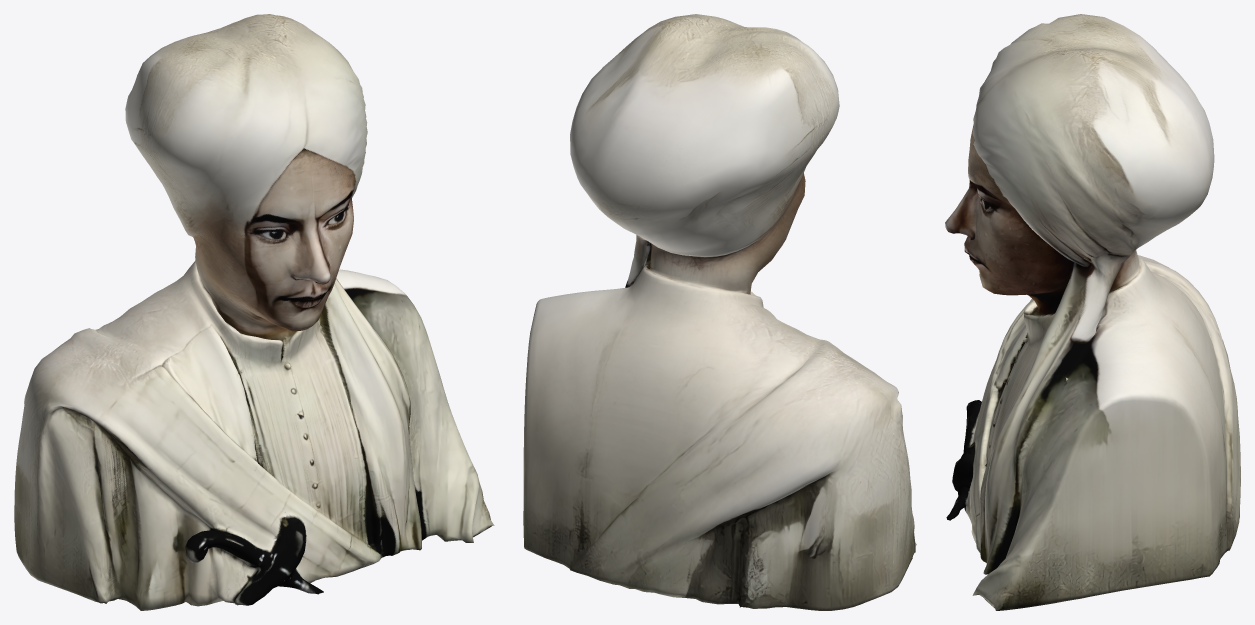
The model's file is diponogoro.glb.
3 views of the same model, side by side, from view 1: azimuth 30°, elevation 25°; view 2: azimuth 150°, elevation 25°; view 3: azimuth 270°, elevation 25° (orthographic). The views are drawn at different scales.
Parts seen in each view (by area): view 1: model; view 2: model; view 3: model.
Boxes of the visible parts, bbox=[...] form: model: bbox=[14, 14, 494, 610]; model: bbox=[523, 14, 916, 610]; model: bbox=[945, 14, 1240, 610].
Size of the model in its own units: 1.57 by 1.9 by 1.06.
1 material, 1 textured.
